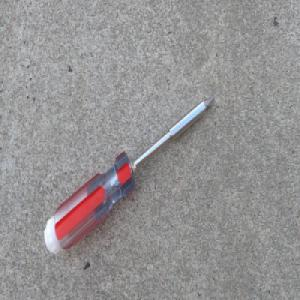Screwdriver: (43, 94, 216, 255)
